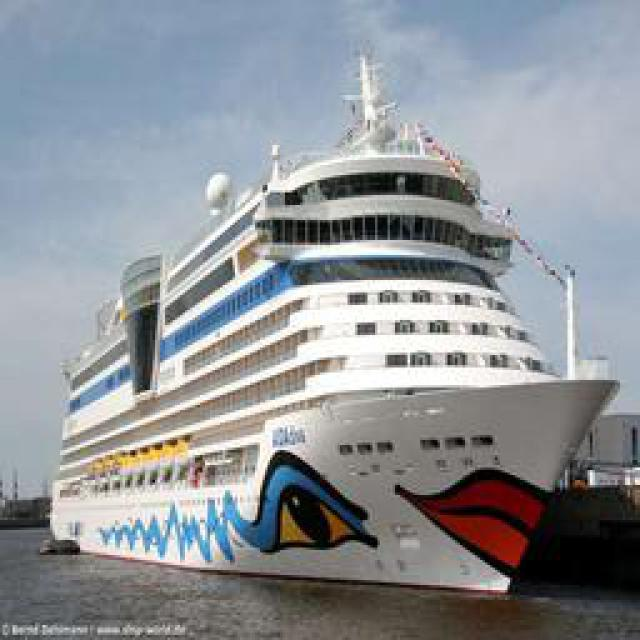Ship: (47, 50, 615, 610)
